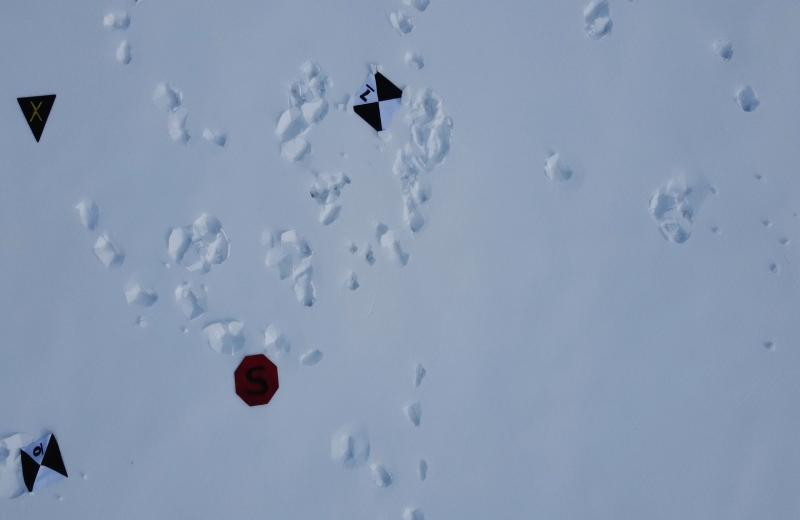Octagon: (233, 353, 280, 407)
Triangle: (16, 91, 59, 144)
